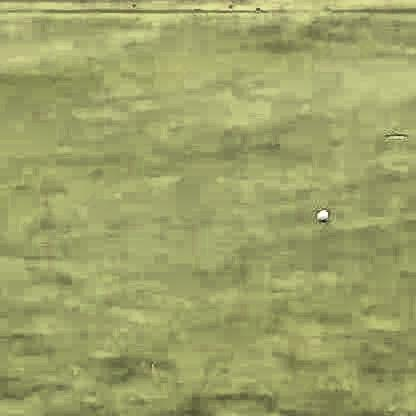golfball: (315, 207, 326, 221)
